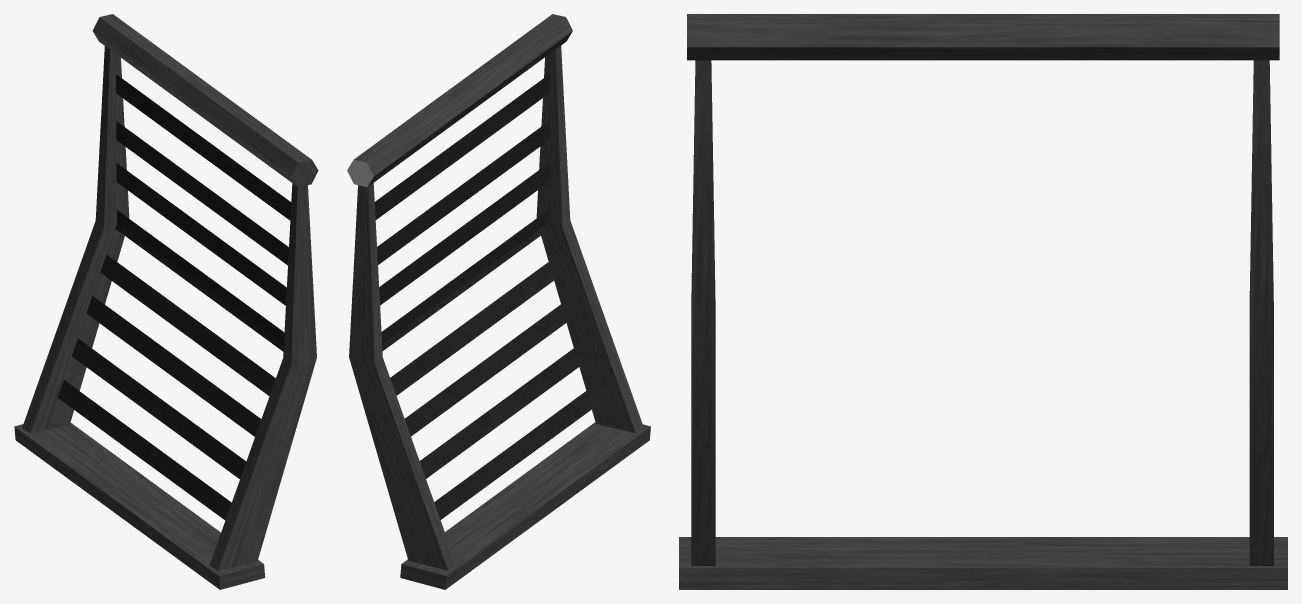
Rendered from Rail_High.fbx.
The picture shows the model from 3 angles, left to right: view 1: azimuth 30°, elevation 25°; view 2: azimuth 150°, elevation 25°; view 3: azimuth 270°, elevation 25°; orthographic projection. The views are drawn at different scales.
Parts seen in each view (by area): view 1: rail_high; view 2: rail_high; view 3: rail_high.
Part boxes in pixels (box(x1,y1,x2,y2)): rail_high: box(14, 14, 318, 589); rail_high: box(347, 14, 650, 589); rail_high: box(679, 14, 1287, 589).
Size of the model in its own units: 0.00288 by 0.0109 by 0.00998.
Materials: 2 (1 with a texture image).
